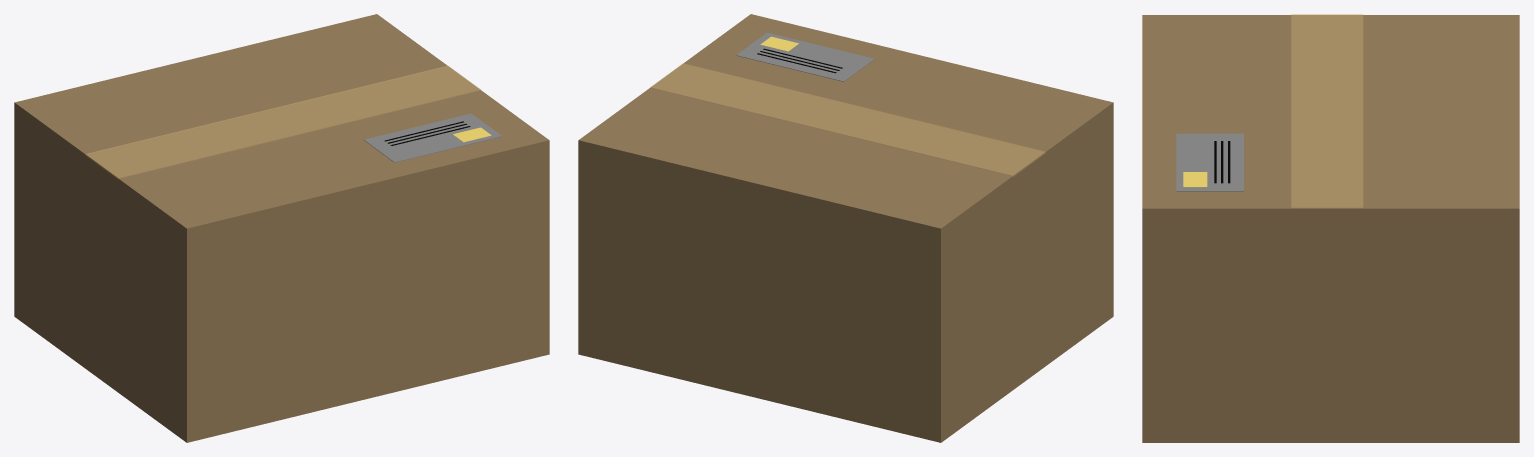
The model's file is SM_CardboardBox.fbx.
The picture shows the model from 3 angles, left to right: view 1: azimuth 30°, elevation 25°; view 2: azimuth 150°, elevation 25°; view 3: azimuth 270°, elevation 25°; orthographic projection. The views are drawn at different scales.
Visible parts, largest first — view 1: pCube1; view 2: pCube1; view 3: pCube1.
Boxes of the visible parts, x1,y1,x2,y2 form: pCube1: (14,14,549,442); pCube1: (578,14,1113,442); pCube1: (1142,14,1519,442).
Size of the model in its own units: 9.91 by 5.61 by 8.15.
